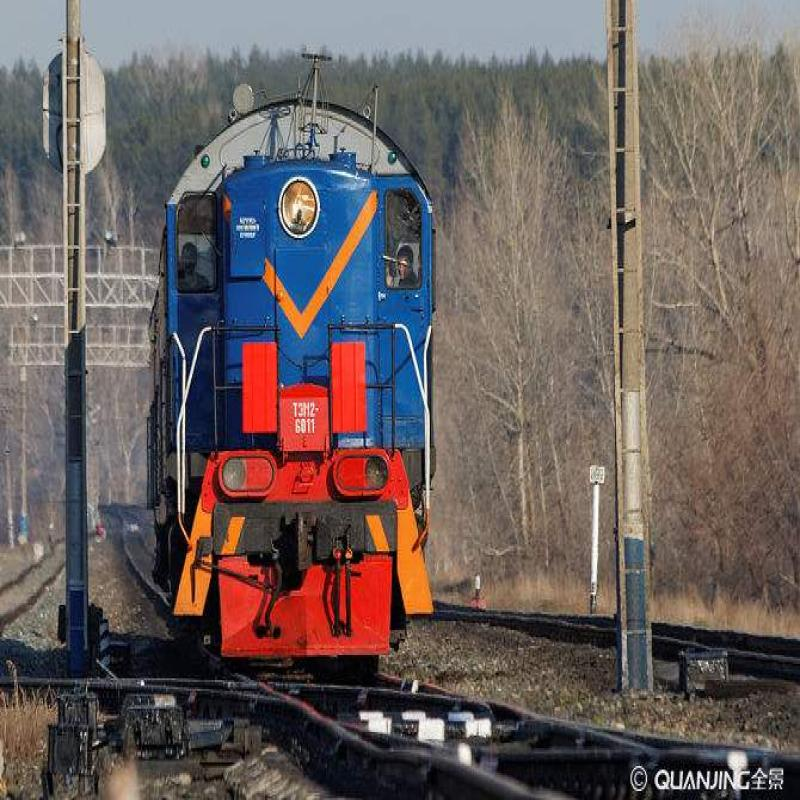train: (151, 75, 447, 680)
